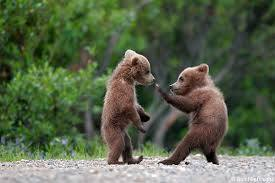bear: (99, 47, 229, 167)
